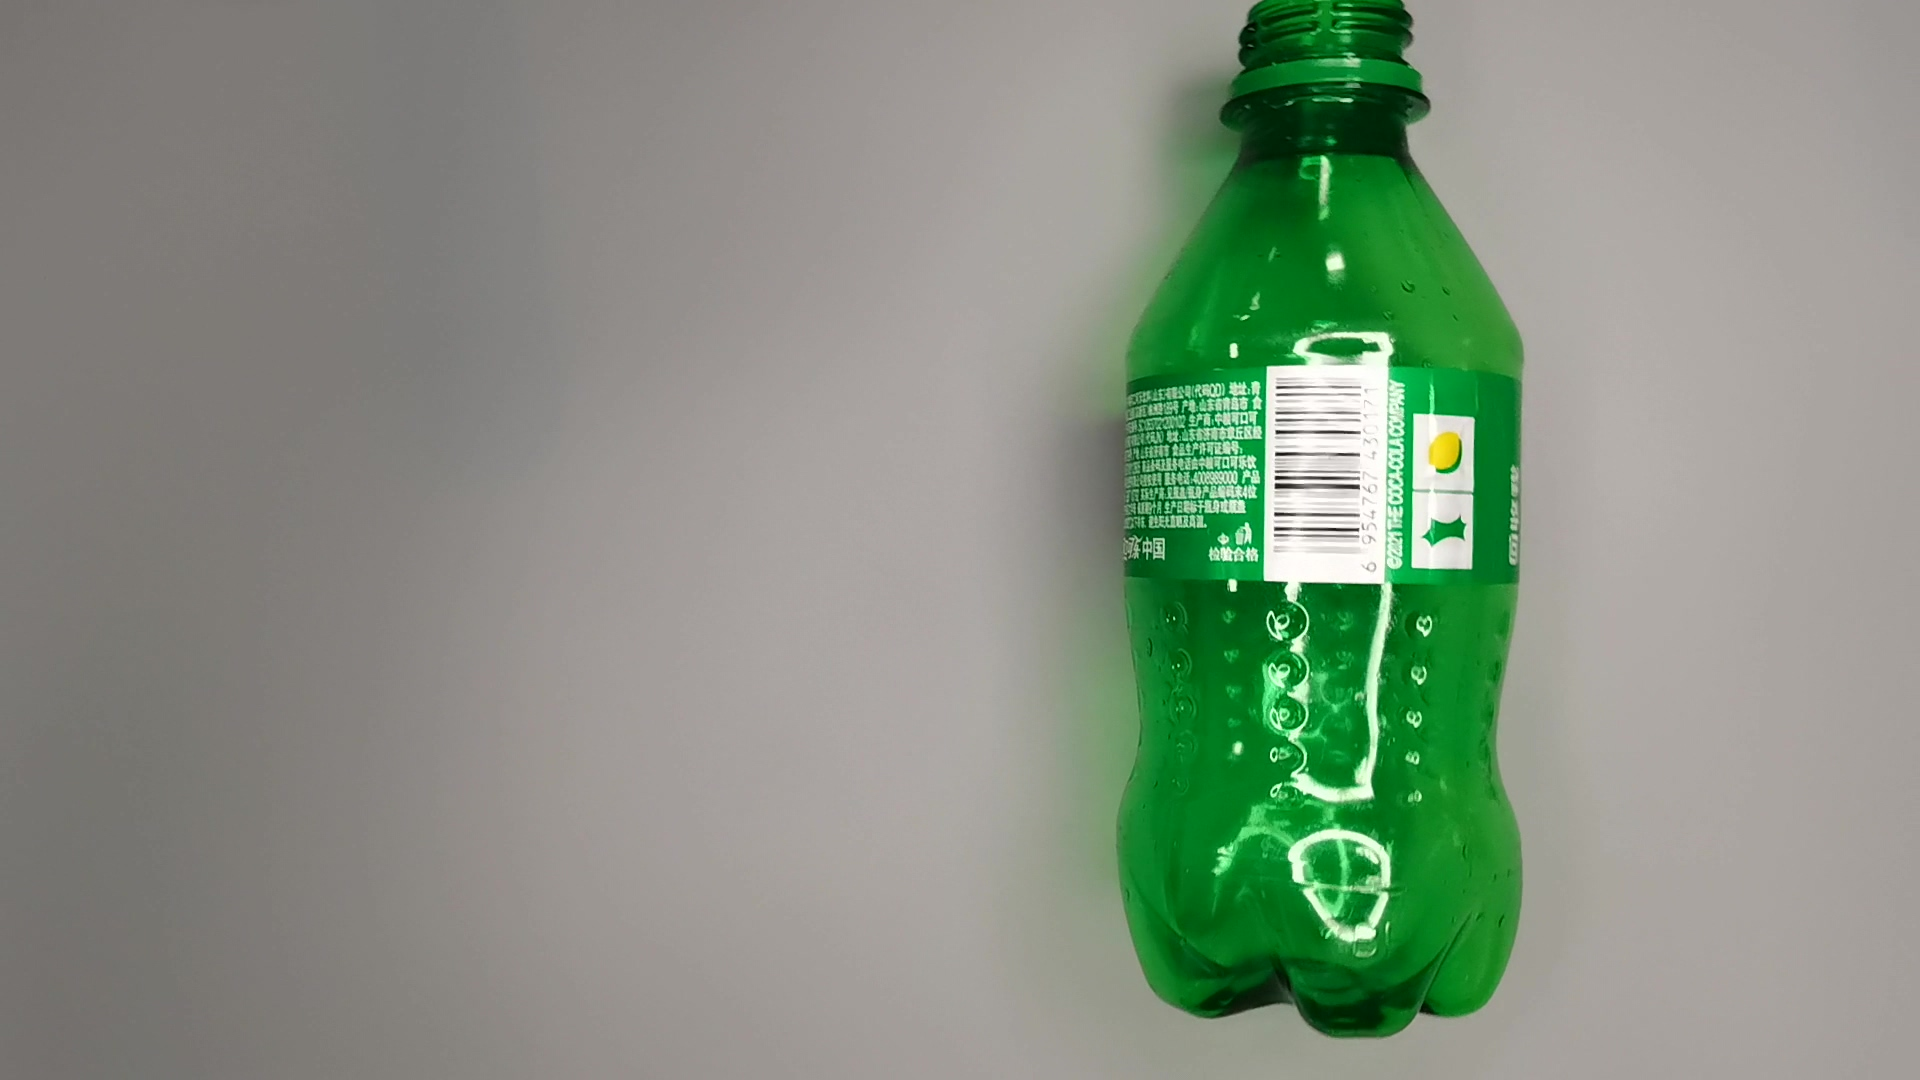bottle: (1101, 1, 1549, 1052)
